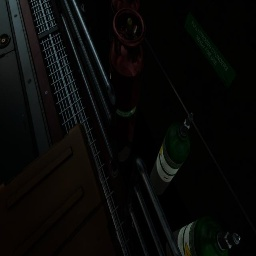0: (150, 113, 193, 195), (166, 216, 240, 256)
NitrogenTank ,: (109, 8, 146, 162), (111, 0, 140, 42)
